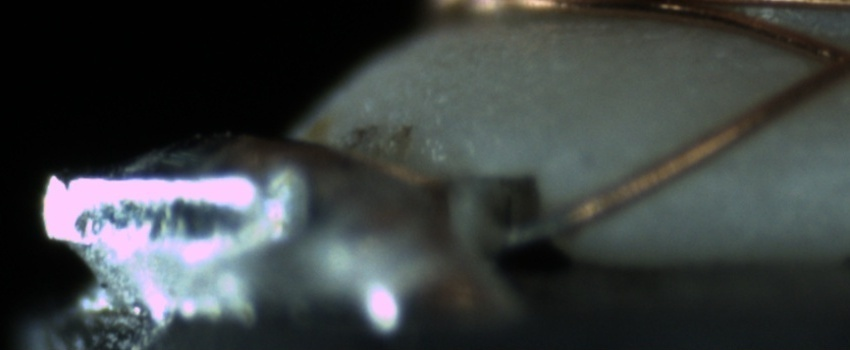CL: (800, 27, 849, 94)
TS: (496, 212, 571, 248)
